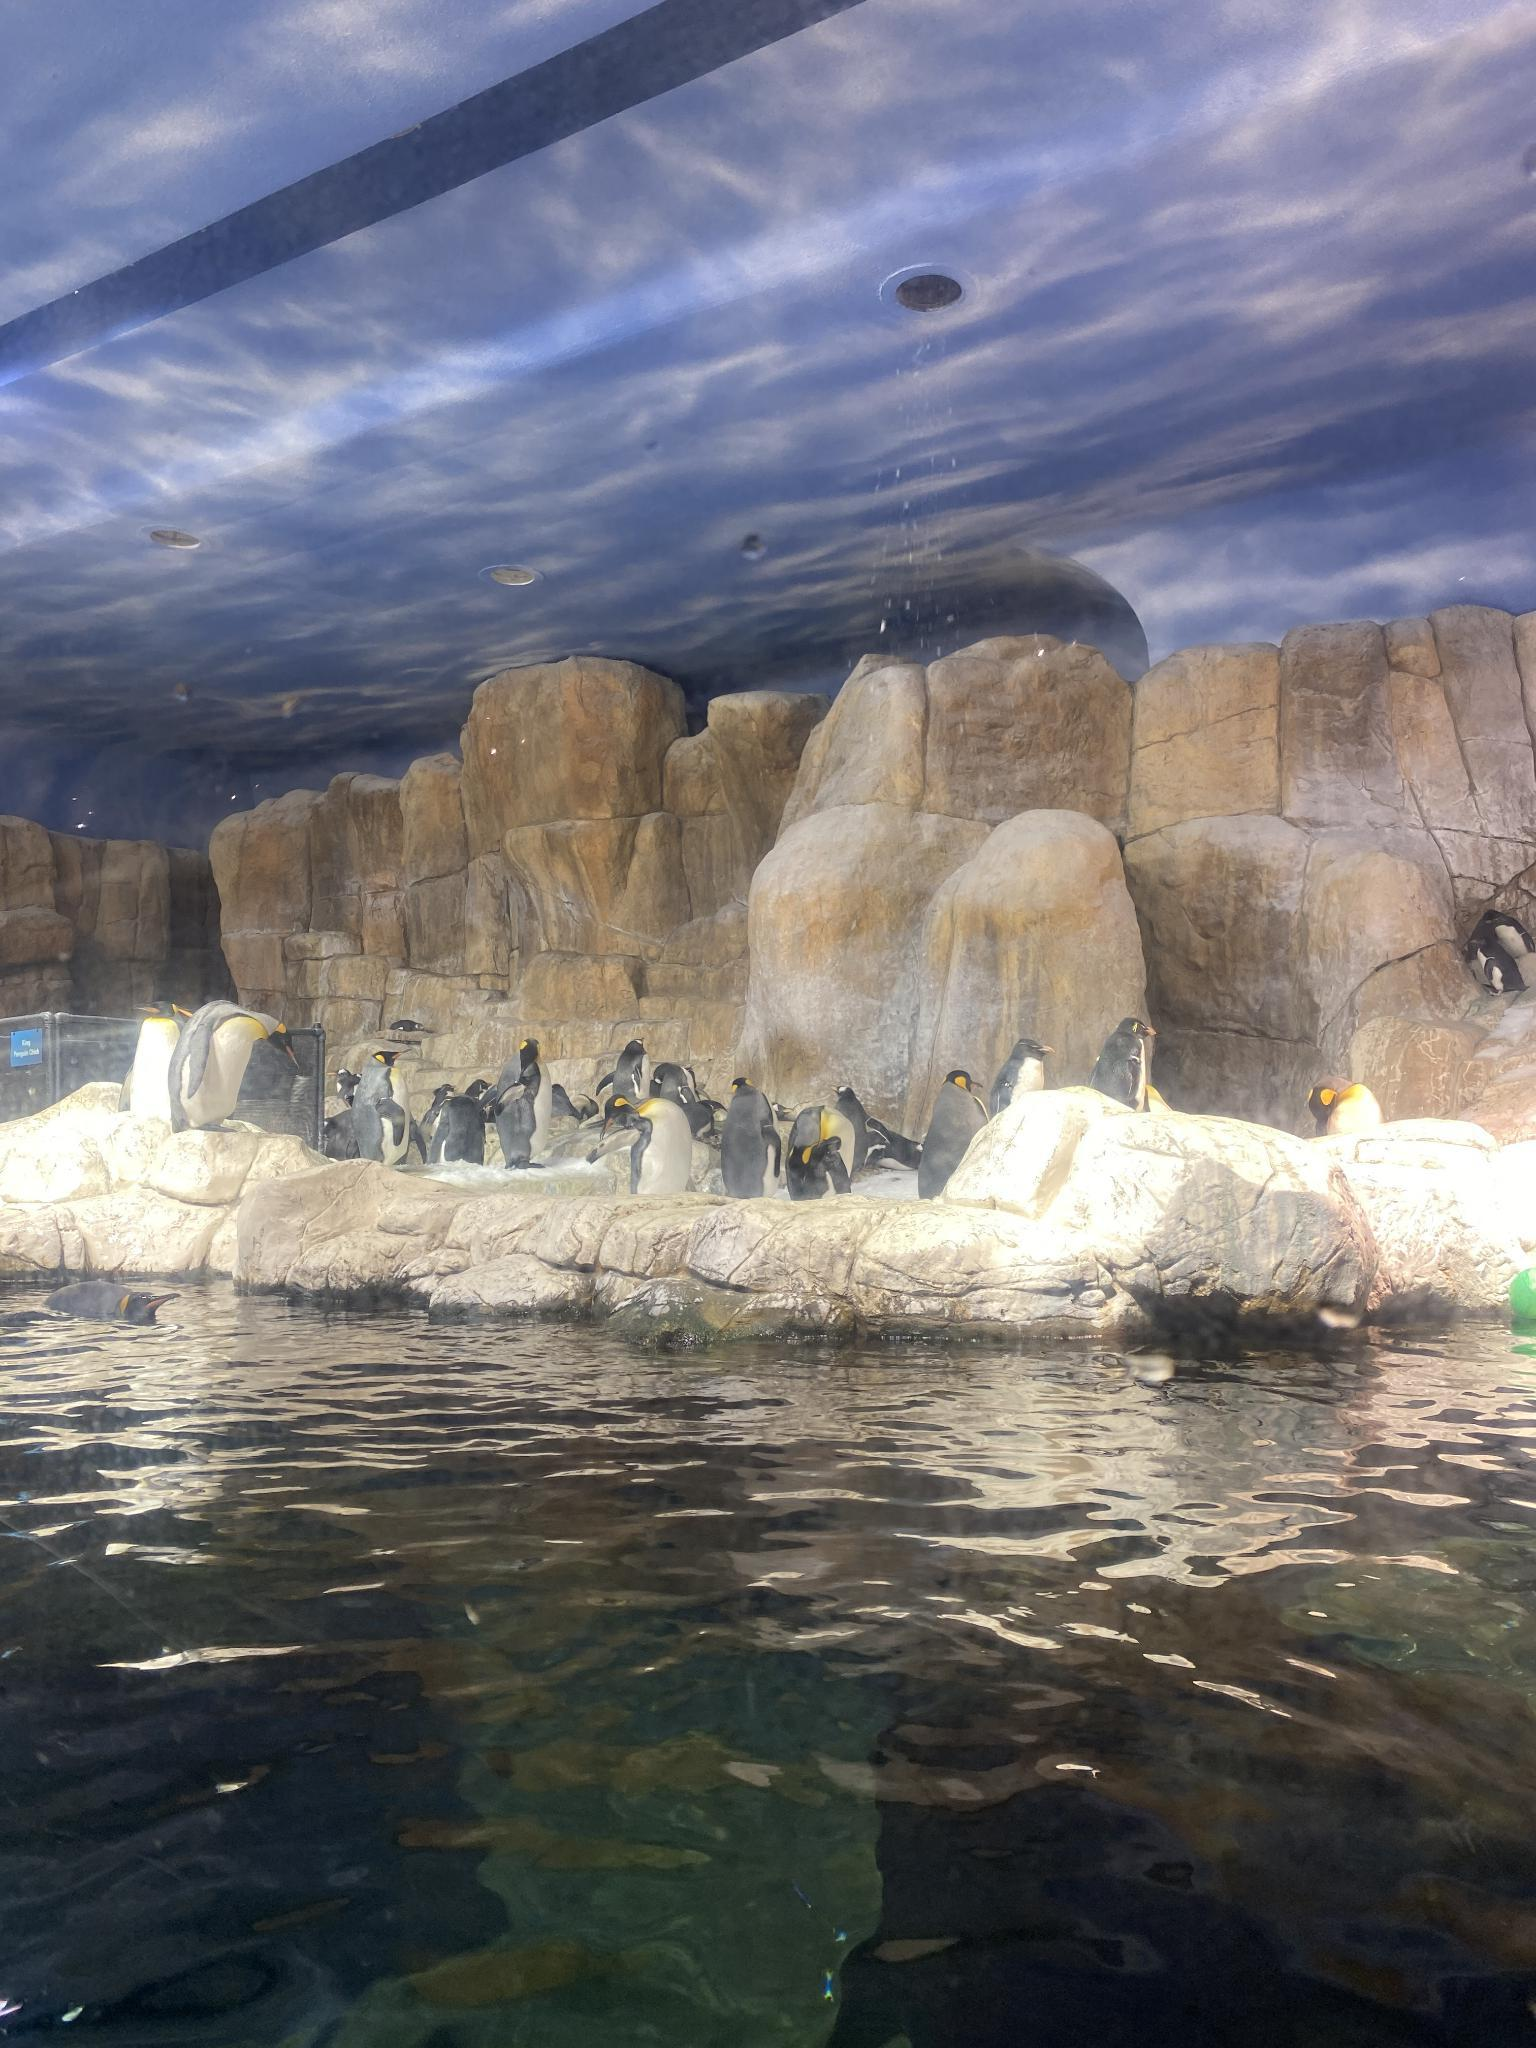penguin: (182, 987, 274, 1137), (357, 1042, 453, 1176), (123, 989, 190, 1127), (507, 1027, 557, 1108), (329, 1072, 368, 1137)
